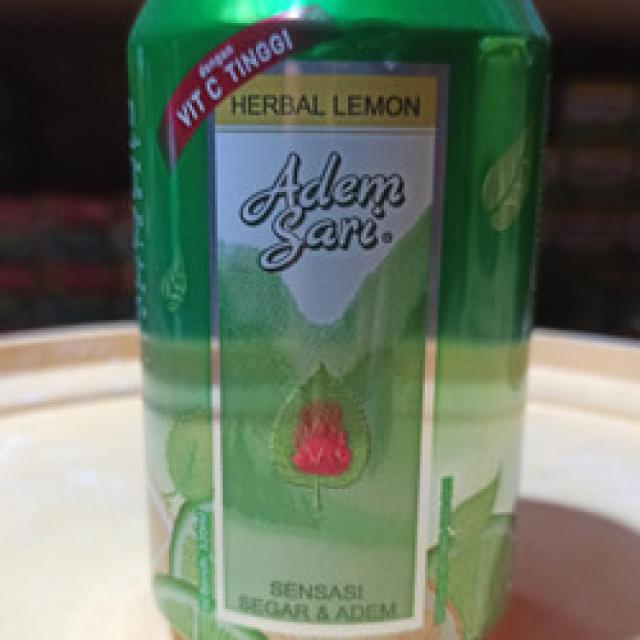ademsarikaleng: (120, 0, 555, 637)
